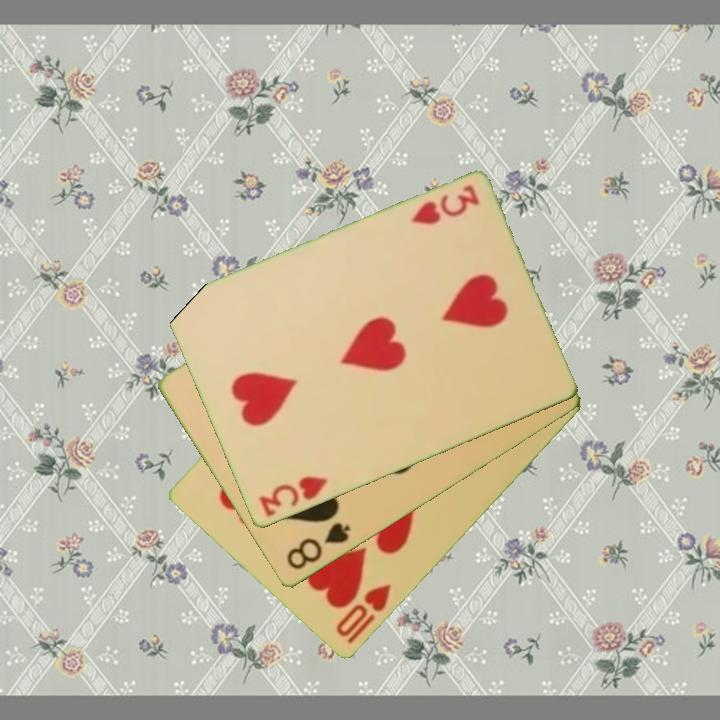10h: (332, 580, 394, 648)
3h: (255, 473, 331, 521), (407, 181, 482, 229)
8s: (282, 519, 353, 573)
